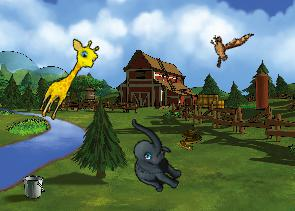eagle: (200, 17, 254, 75)
elephant: (109, 117, 196, 198)
giraffe: (35, 33, 103, 127)
